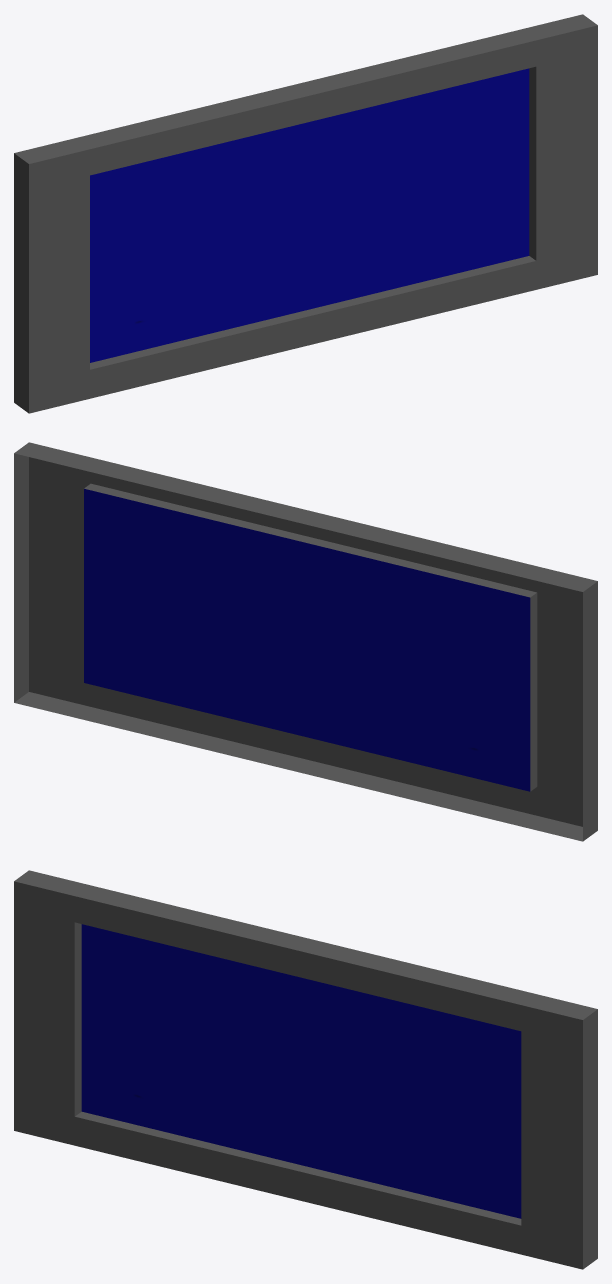
File: Window 2.FBX
3 renders of one model, top to bottom at view 1: azimuth 30°, elevation 25°; view 2: azimuth 150°, elevation 25°; view 3: azimuth 330°, elevation 25°, orthographic.
Visible parts, largest first — view 1: Window 02; view 2: Window 02; view 3: Window 02.
Boxes of the visible parts, box(x1,y1,x2,y2) form: Window 02: box(14, 14, 597, 413); Window 02: box(14, 442, 597, 841); Window 02: box(14, 870, 597, 1269).
Bounding box in the file's own units: 328 × 137 × 15.04.
